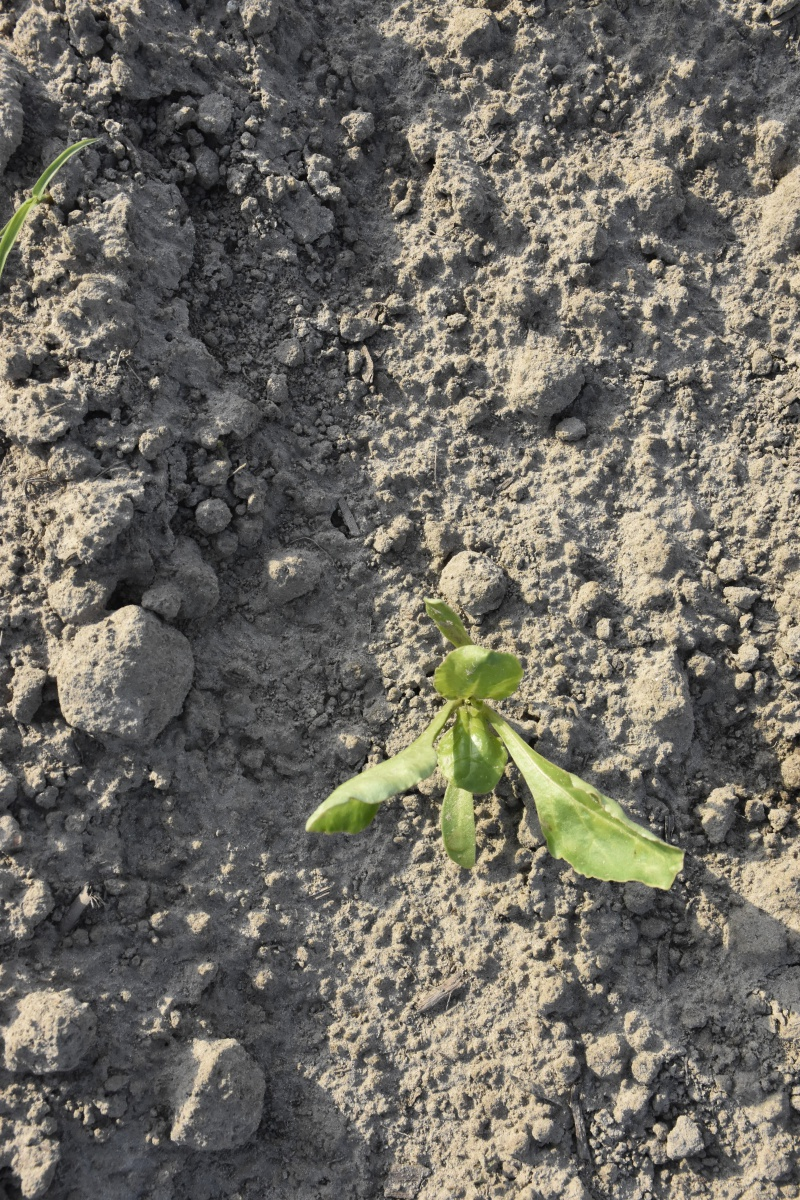sugar beet: (301, 595, 701, 902)
